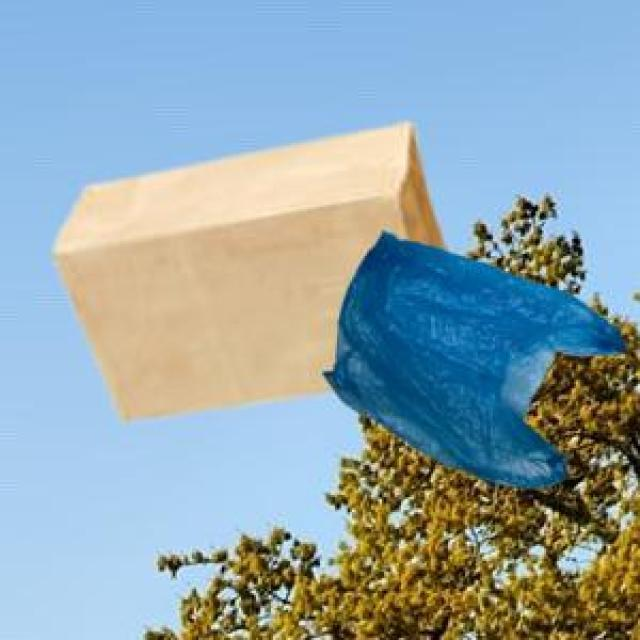paper: (49, 120, 442, 416)
